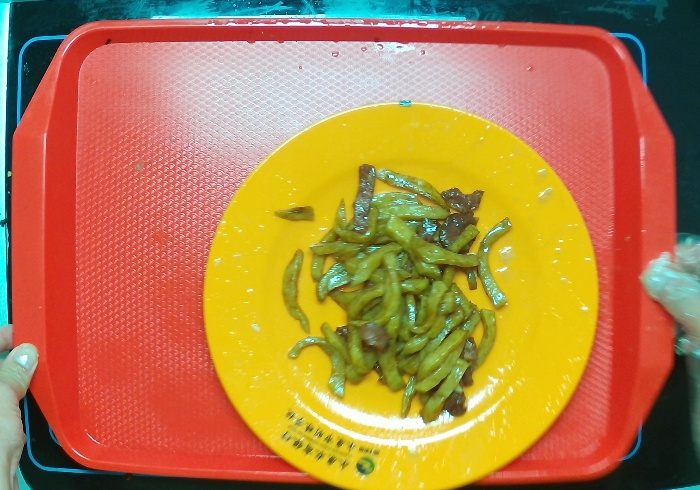YKMZ-Ju_Se_Mian_Pan: (192, 95, 612, 490)
